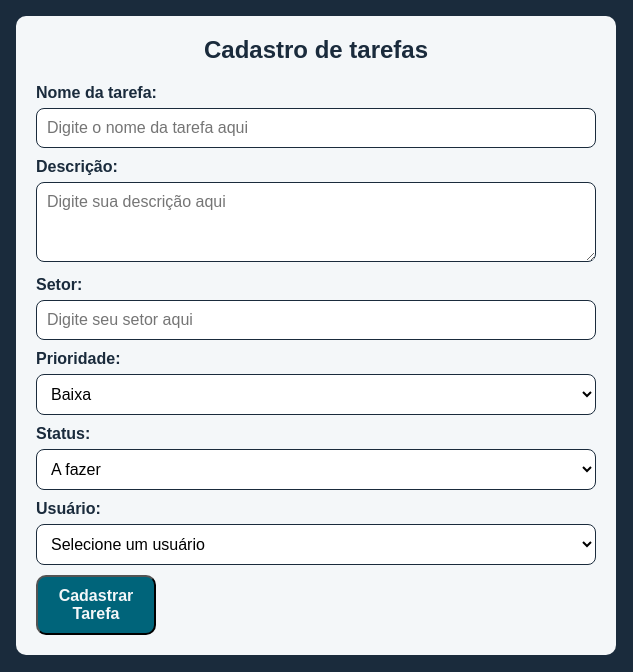
Test: Teste do componente CadTarefa › Campo Descrição - Validações Específicas › Deve permitir apenas letras, números, '.', ',', '!', '?' e espaço (handleDescricaoChange)
Type "Descricao #$@ Com !?., e 123" into the text box labelled "Descrição:".
click(316, 222); type("Descricao #$@ Com !?., e 123")  # box [36,182,596,262]
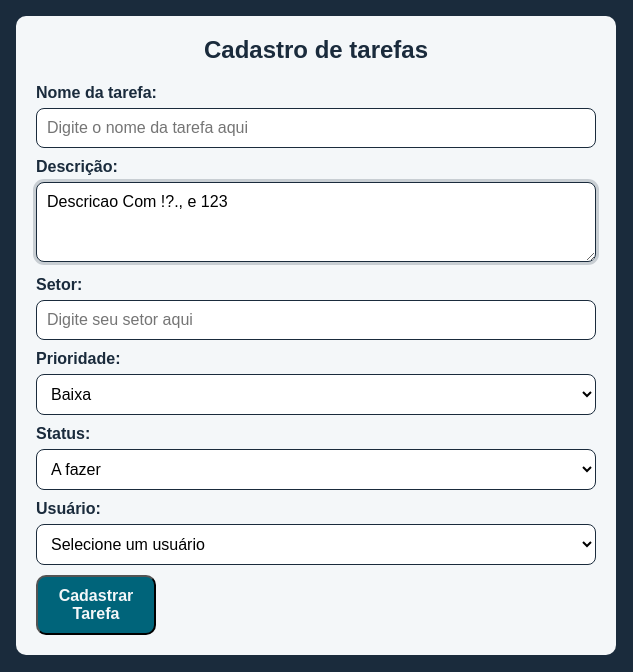
expect the text box labelled "Descrição:" holds "Descricao Com !?., e 123": met, box [36,182,596,262]
